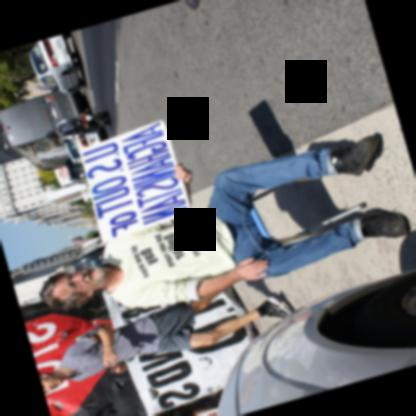backpack: (56, 119, 83, 131)
